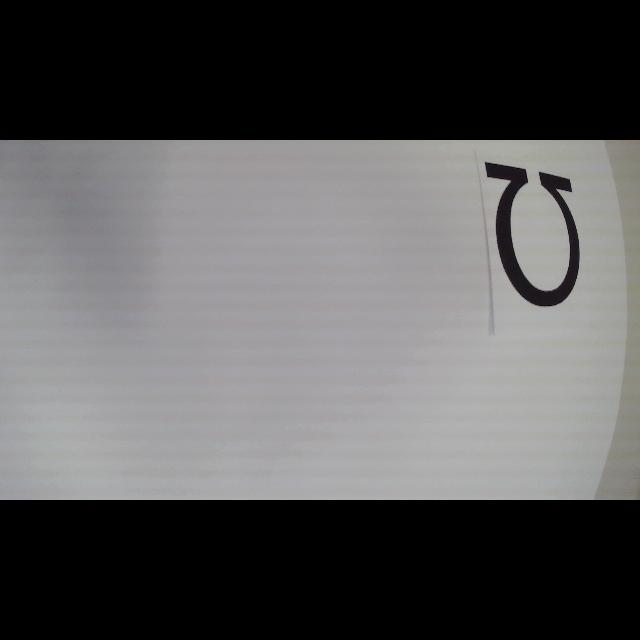OMEGA: (484, 161, 580, 307)
